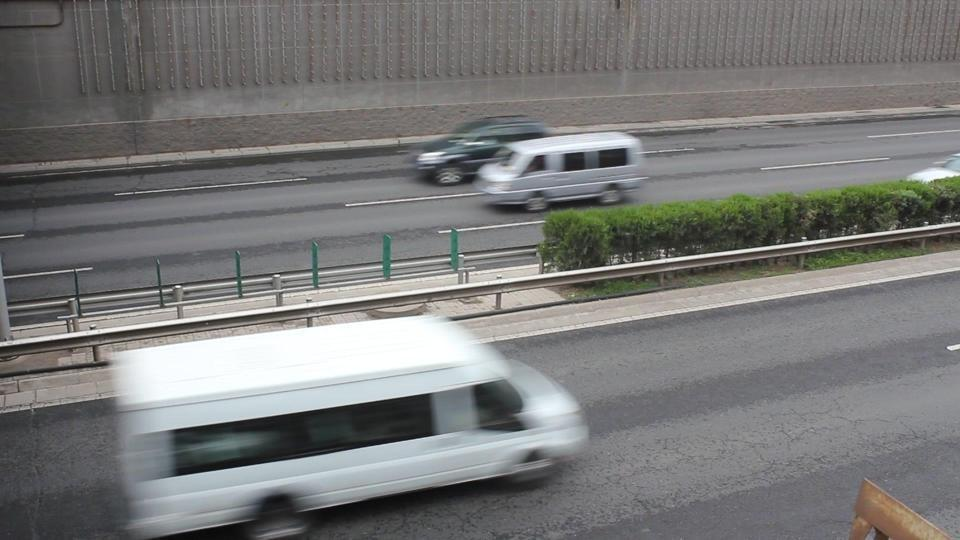car: (474, 130, 647, 213), (412, 114, 550, 186)
